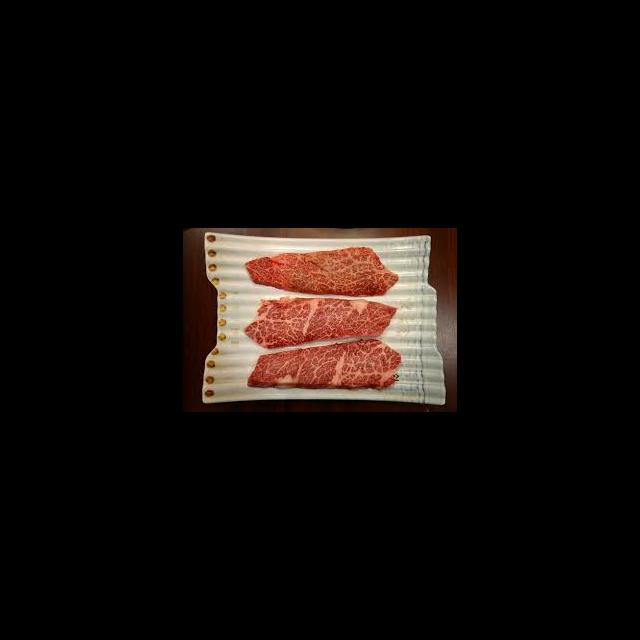beef: (244, 245, 400, 297), (242, 295, 399, 346), (247, 342, 404, 390)
